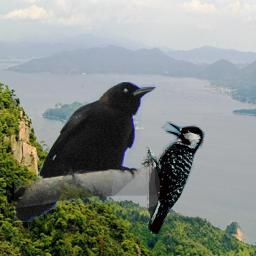Crow: (14, 82, 156, 222)
Woodpecker: (140, 121, 206, 234)
